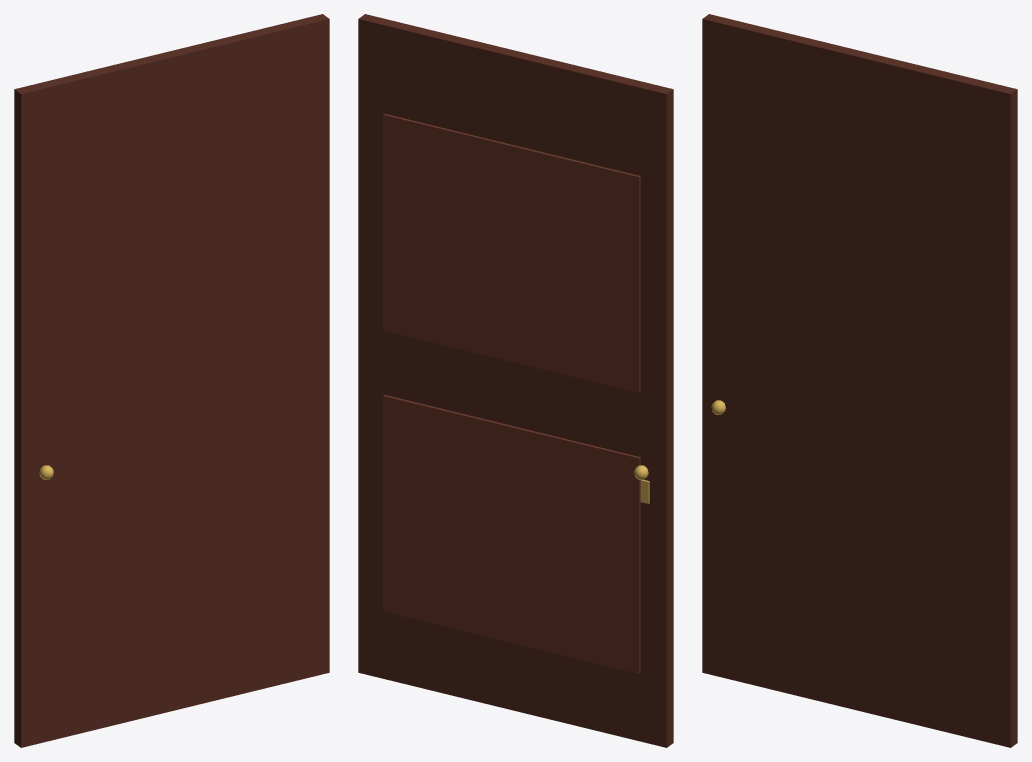
Rendered from SM_ENV_Porta.fbx.
The picture shows the model from 3 angles, left to right: view 1: azimuth 30°, elevation 25°; view 2: azimuth 150°, elevation 25°; view 3: azimuth 330°, elevation 25°; orthographic projection.
Visible parts, largest first — view 1: SM_ENV_Porta; view 2: SM_ENV_Porta; view 3: SM_ENV_Porta.
Boxes of the visible parts, x1,y1,x2,y2 form: SM_ENV_Porta: (14, 14, 329, 747); SM_ENV_Porta: (358, 14, 673, 747); SM_ENV_Porta: (702, 14, 1017, 747).
Size of the model in its own units: 1.18 by 2.39 by 0.155.
